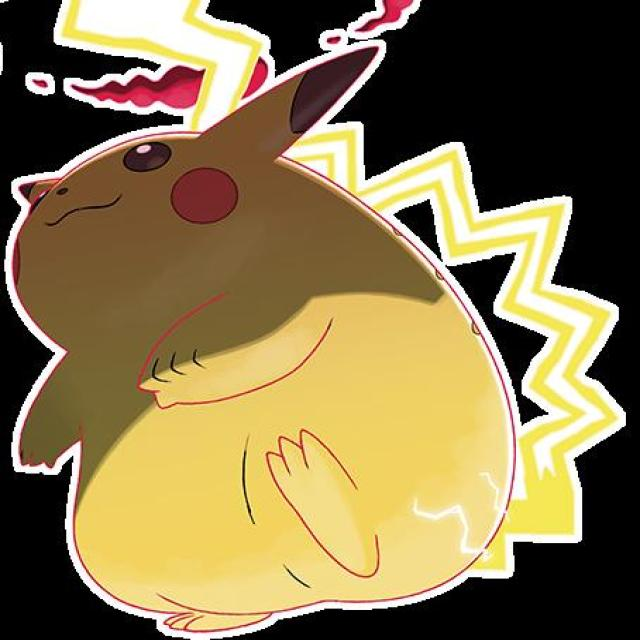pikachu: (12, 43, 515, 640)
